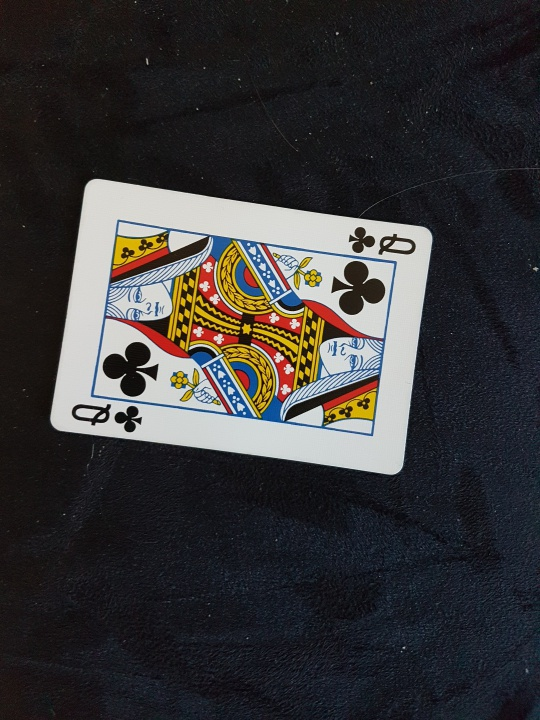queen: (46, 157, 435, 497)
